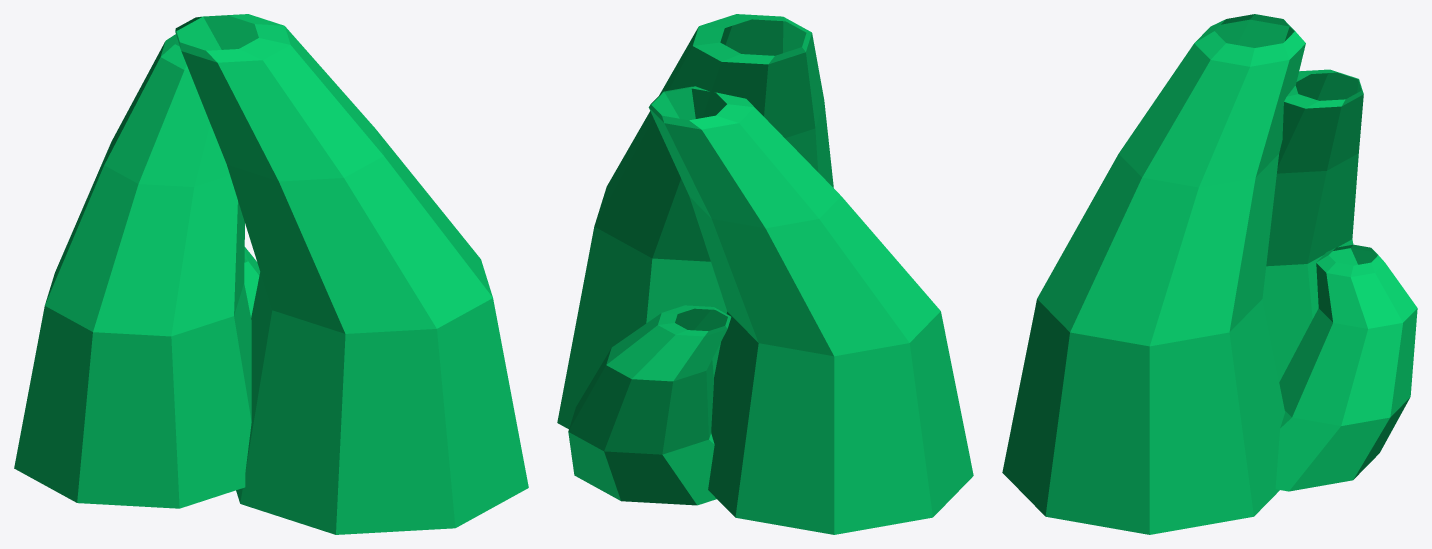
Rendered from Coral3.fbx.
The picture shows the model from 3 angles, left to right: view 1: azimuth 30°, elevation 25°; view 2: azimuth 150°, elevation 25°; view 3: azimuth 270°, elevation 25°; orthographic projection. The views are drawn at different scales.
Visible parts, largest first — view 1: Cylinder; view 2: Cylinder; view 3: Cylinder.
Boxes of the visible parts, <box> form: Cylinder: <box>14,14,528,534</box>; Cylinder: <box>557,14,973,534</box>; Cylinder: <box>1002,14,1417,534</box>.
Size of the model in its own units: 225 by 214 by 204.
